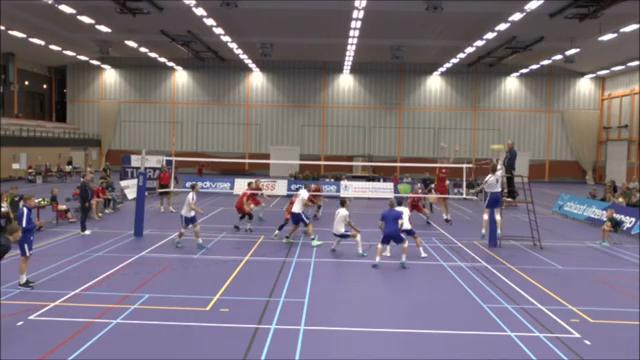Attack: (467, 148, 507, 242)
Block: (428, 141, 463, 231)
Player: (372, 199, 407, 268), (283, 184, 321, 245), (330, 199, 366, 256), (174, 183, 205, 248), (396, 199, 427, 257), (272, 195, 297, 239), (234, 182, 253, 231), (408, 184, 430, 224), (250, 179, 269, 220), (310, 183, 324, 219)
ball: (486, 144, 504, 155)
